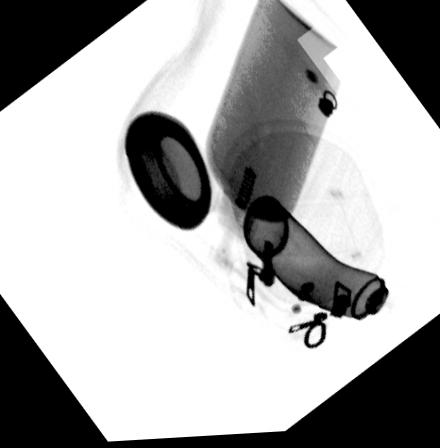Sprayer: (239, 194, 411, 339)
